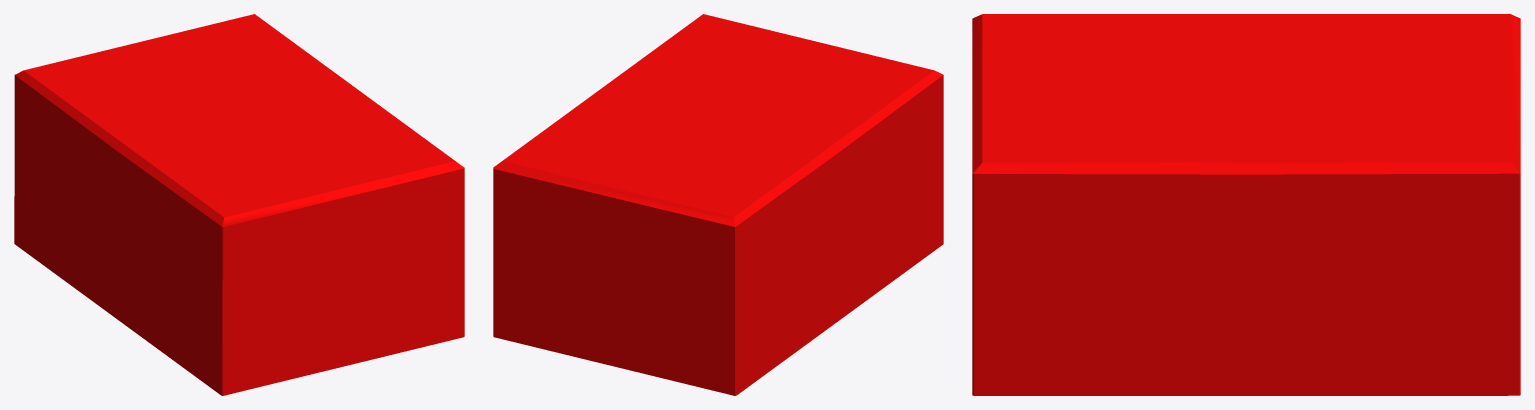
The model's file is Fp324_Ps_324_Shelf_5_Fp324_Ps_324_Shelf_5_2.obj.
3 renders of one model, left to right at view 1: azimuth 30°, elevation 25°; view 2: azimuth 150°, elevation 25°; view 3: azimuth 270°, elevation 25°, orthographic. The views are drawn at different scales.
Visible parts, largest first — view 1: Fp324_Ps_324_Shelf_5; view 2: Fp324_Ps_324_Shelf_5; view 3: Fp324_Ps_324_Shelf_5.
Part boxes in pixels (x1,y1,x2,y2): Fp324_Ps_324_Shelf_5: [14, 14, 464, 395]; Fp324_Ps_324_Shelf_5: [493, 14, 943, 395]; Fp324_Ps_324_Shelf_5: [972, 14, 1520, 395].
Size of the model in its own units: 0.2066 by 0.1419 by 0.3068.
